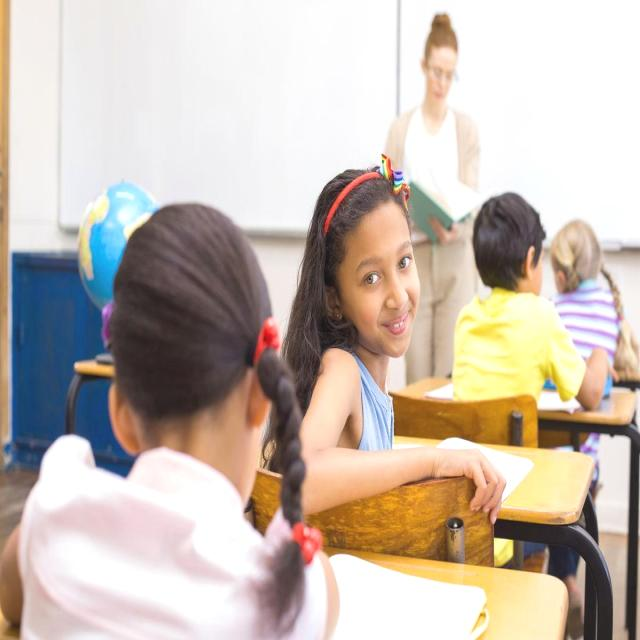face_nomask: (346, 207, 421, 365), (422, 41, 456, 109)
hand_noglove: (453, 443, 508, 525)
head_nohelmet: (109, 211, 278, 464), (290, 160, 414, 242), (475, 183, 538, 292), (547, 196, 607, 295), (416, 17, 459, 73)
person: (23, 205, 311, 614), (297, 152, 446, 506), (388, 1, 469, 352), (458, 198, 555, 401), (550, 220, 638, 386)
